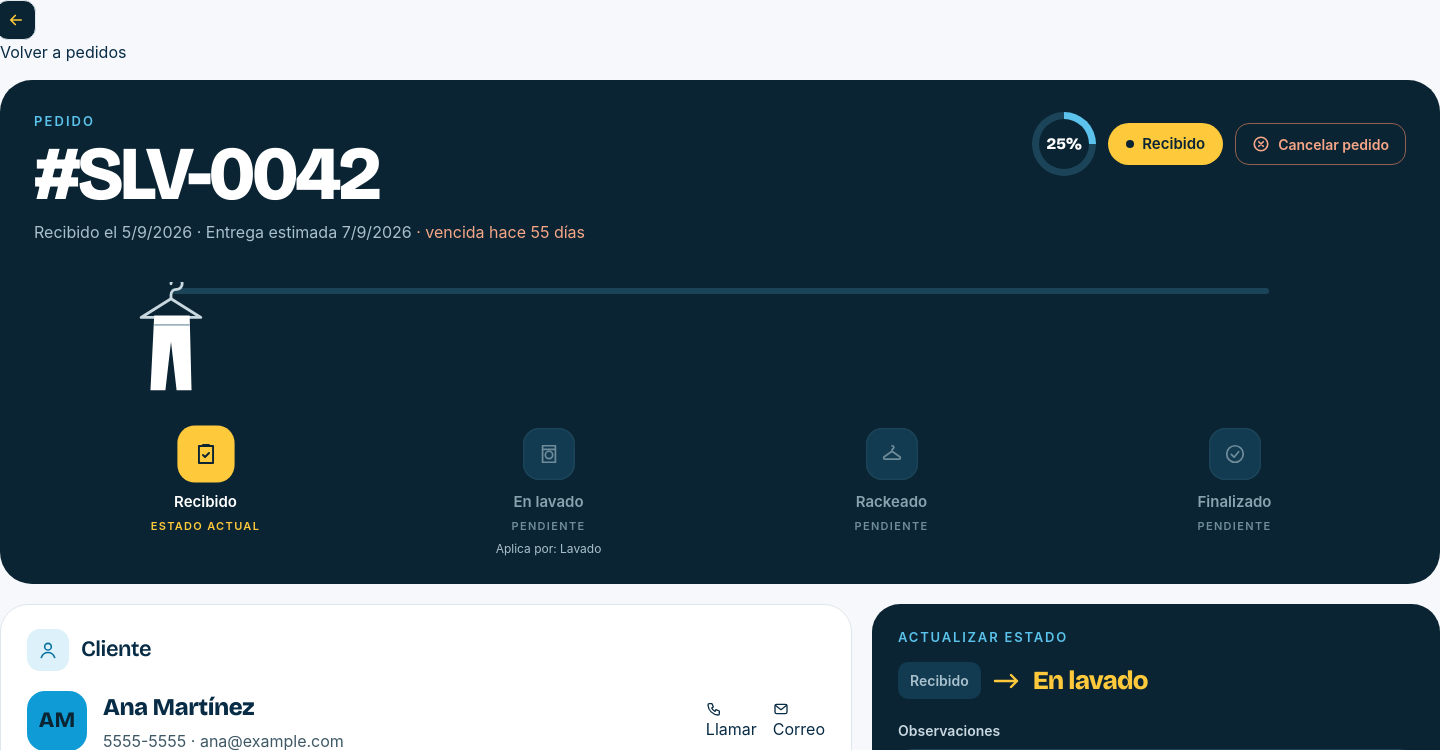
Test case: OrderDetailPage › no muestra éxito engañoso ni acciones obsoletas si falla recargar tras guardar
The image size is (1440, 750).
Click the button "Cancelar pedido".
click(1321, 144)  # box [1235,123,1406,165]
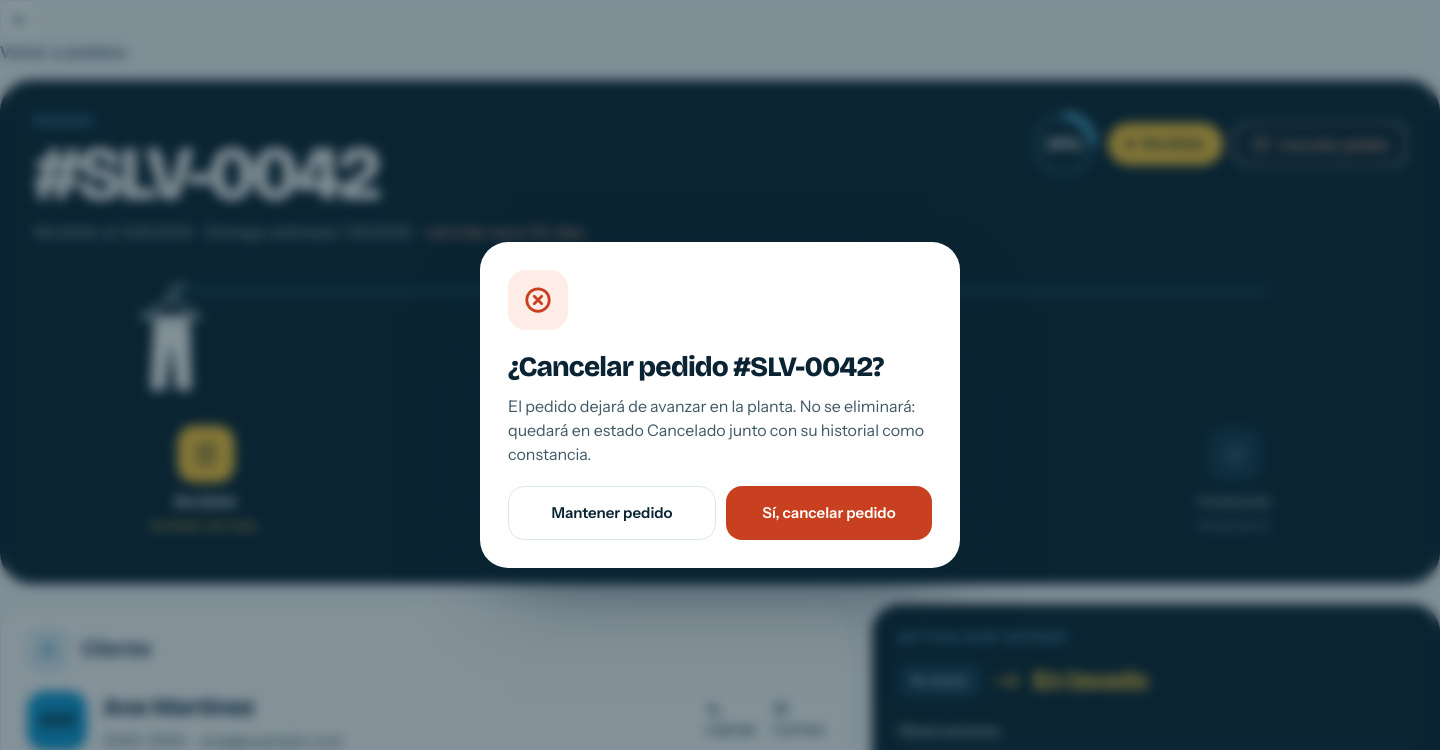
Click the button "Sí, cancelar pedido".
click(829, 513)  # box [726,486,932,540]
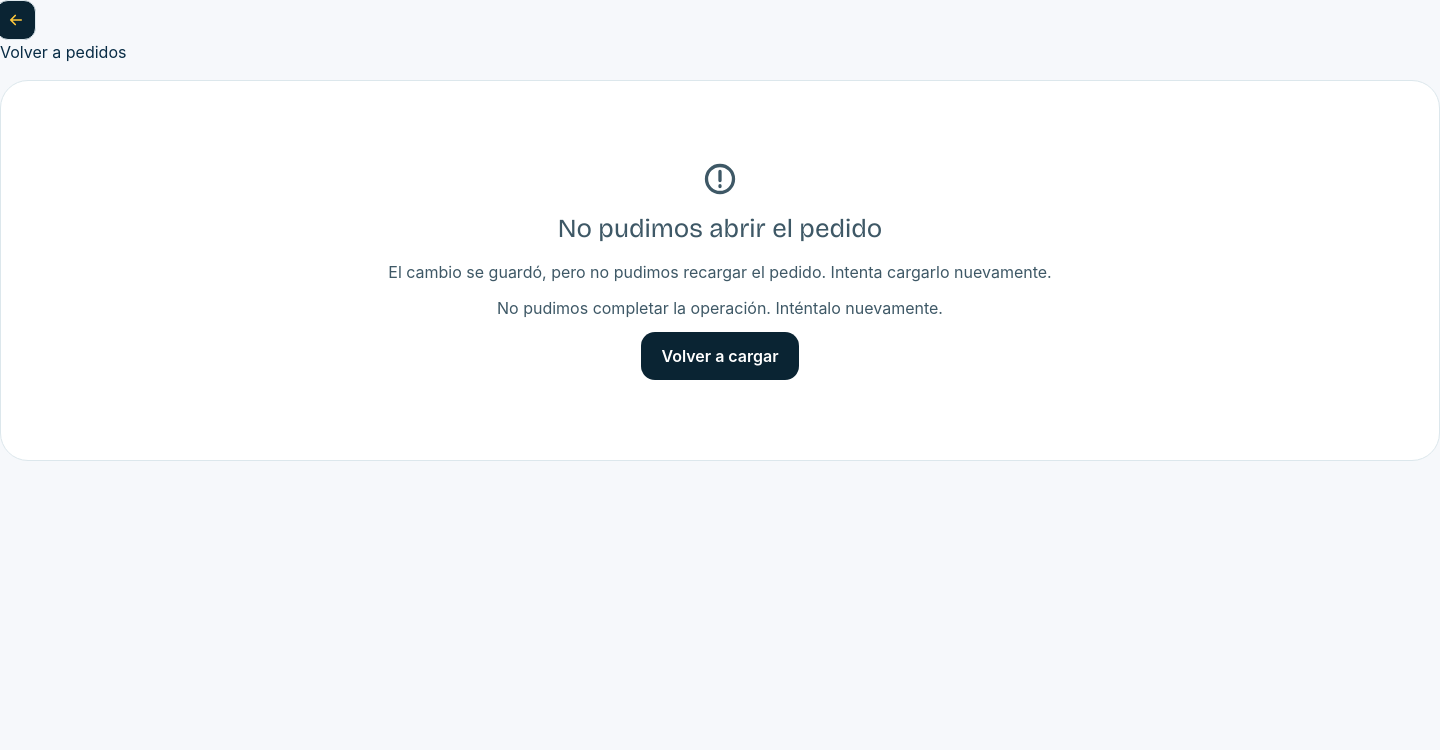
expect the text "El cambio se guardó, pero no pudimos recargar" is shown: met, box [388,262,1052,282]
expect the button "Cancelar pedido" is gone: met
